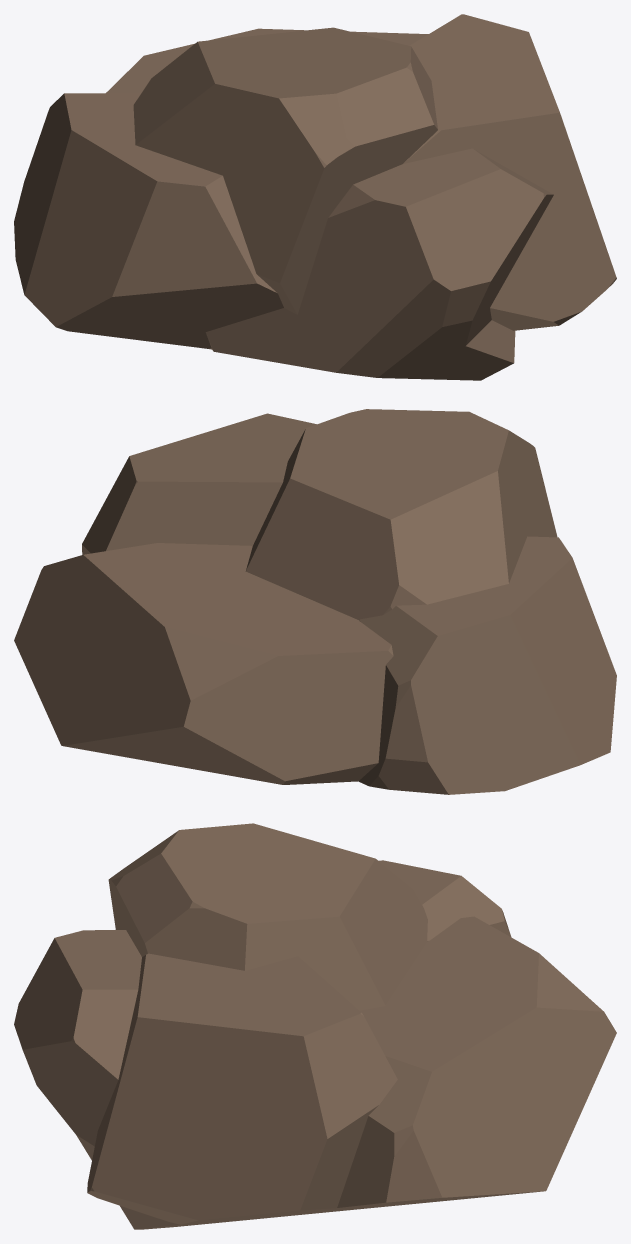
The model's file is ForestRockCluster2.fbx.
The picture shows the model from 3 angles, top to bottom: view 1: azimuth 30°, elevation 25°; view 2: azimuth 150°, elevation 25°; view 3: azimuth 270°, elevation 25°; orthographic projection. The views are drawn at different scales.
Visible parts, largest first — view 1: ForestRockCluster2; view 2: ForestRockCluster2; view 3: ForestRockCluster2.
Part boxes in pixels (x1,y1,x2,y2): ForestRockCluster2: (14, 14, 616, 380); ForestRockCluster2: (14, 409, 616, 794); ForestRockCluster2: (14, 823, 616, 1229).
Size of the model in its own units: 818 by 470 by 818.
